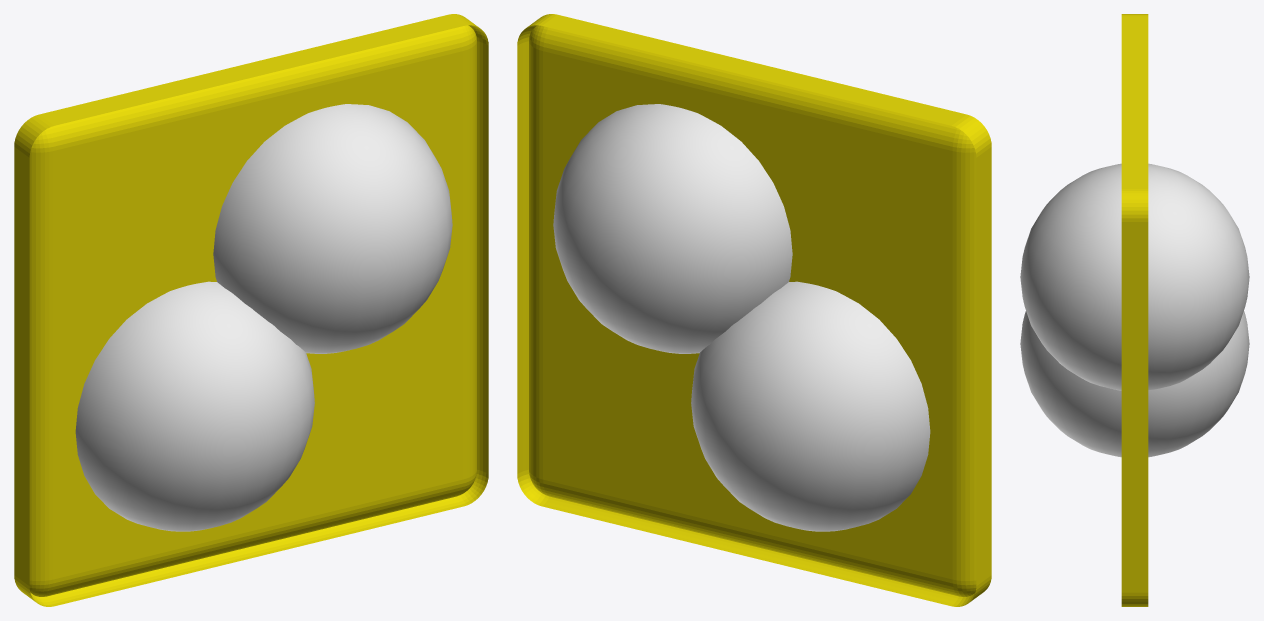
File: Double.fbx
3 views of the same model, side by side, from view 1: azimuth 30°, elevation 25°; view 2: azimuth 150°, elevation 25°; view 3: azimuth 270°, elevation 25° (orthographic). The views are drawn at different scales.
Parts seen in each view (by area): view 1: Cube.003, Sphere, Sphere.001; view 2: Cube.003, Sphere, Sphere.001; view 3: Sphere.001, Cube.003, Sphere.
Boxes of the visible parts, x1=… form: Cube.003: x1=14, y1=14, x2=488, y2=606; Sphere: x1=75, y1=281, x2=314, y2=531; Sphere.001: x1=213, y1=104, x2=452, y2=353; Cube.003: x1=517, y1=14, x2=991, y2=606; Sphere: x1=691, y1=281, x2=930, y2=531; Sphere.001: x1=553, y1=104, x2=792, y2=353; Sphere.001: x1=1020, y1=163, x2=1249, y2=390; Cube.003: x1=1121, y1=14, x2=1148, y2=606; Sphere: x1=1020, y1=311, x2=1249, y2=457.
Bounding box in the file's own units: 2 × 2 × 1.
